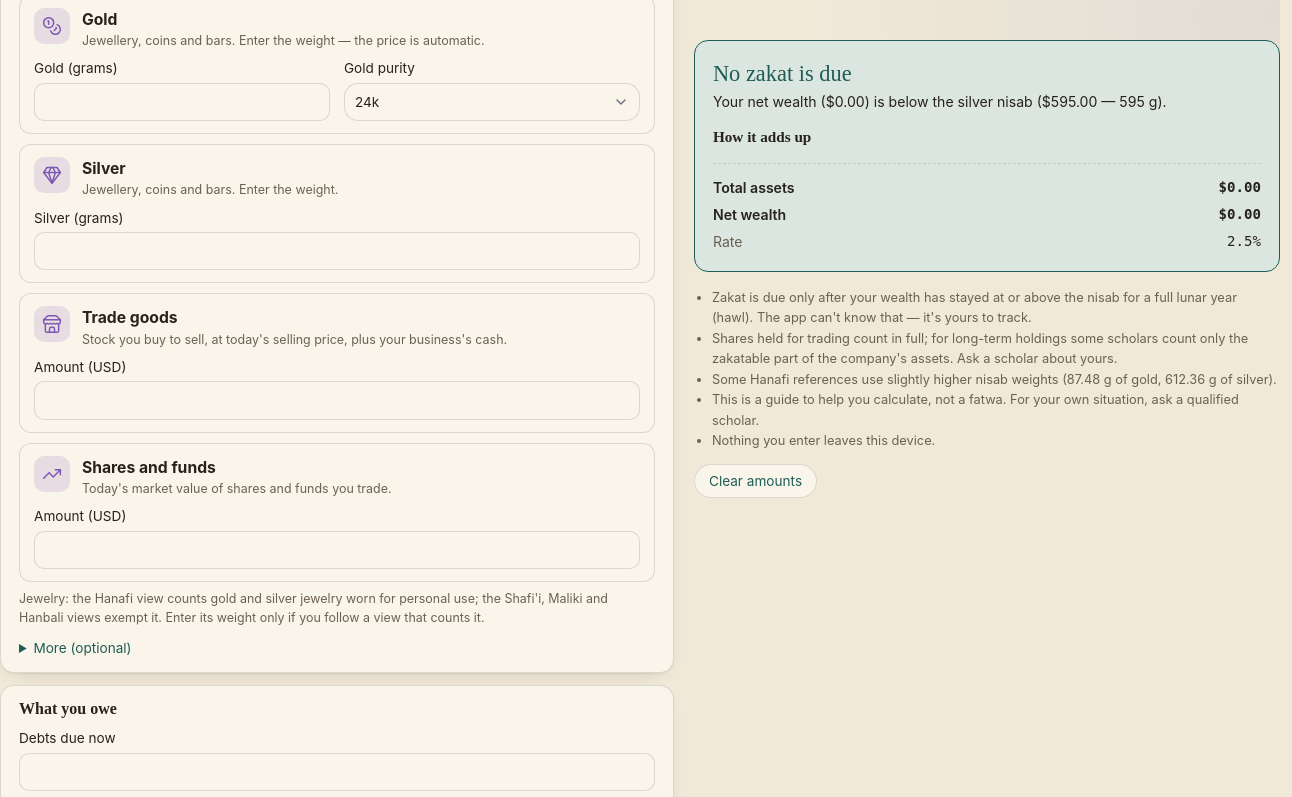
ZakatCalculator — the five kinds of wealth › counts trade goods and shares
(page scrolled)
Type "3000" into the field labelled "Amount (USD)" below "Trade goods" at (337, 401), box [34,381,640,420]
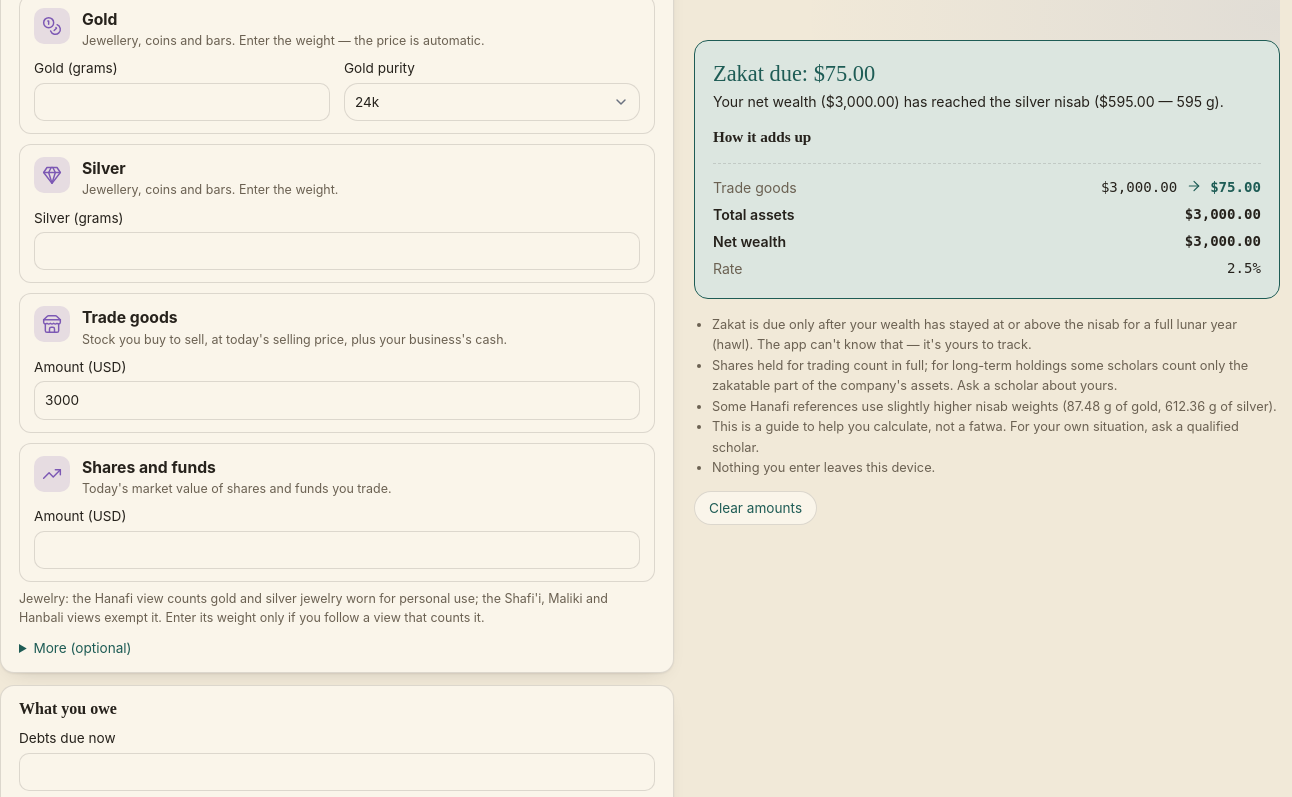
Type "7000" into the 2nd field labelled "Amount (USD)" at (337, 550), box [34,531,640,569]
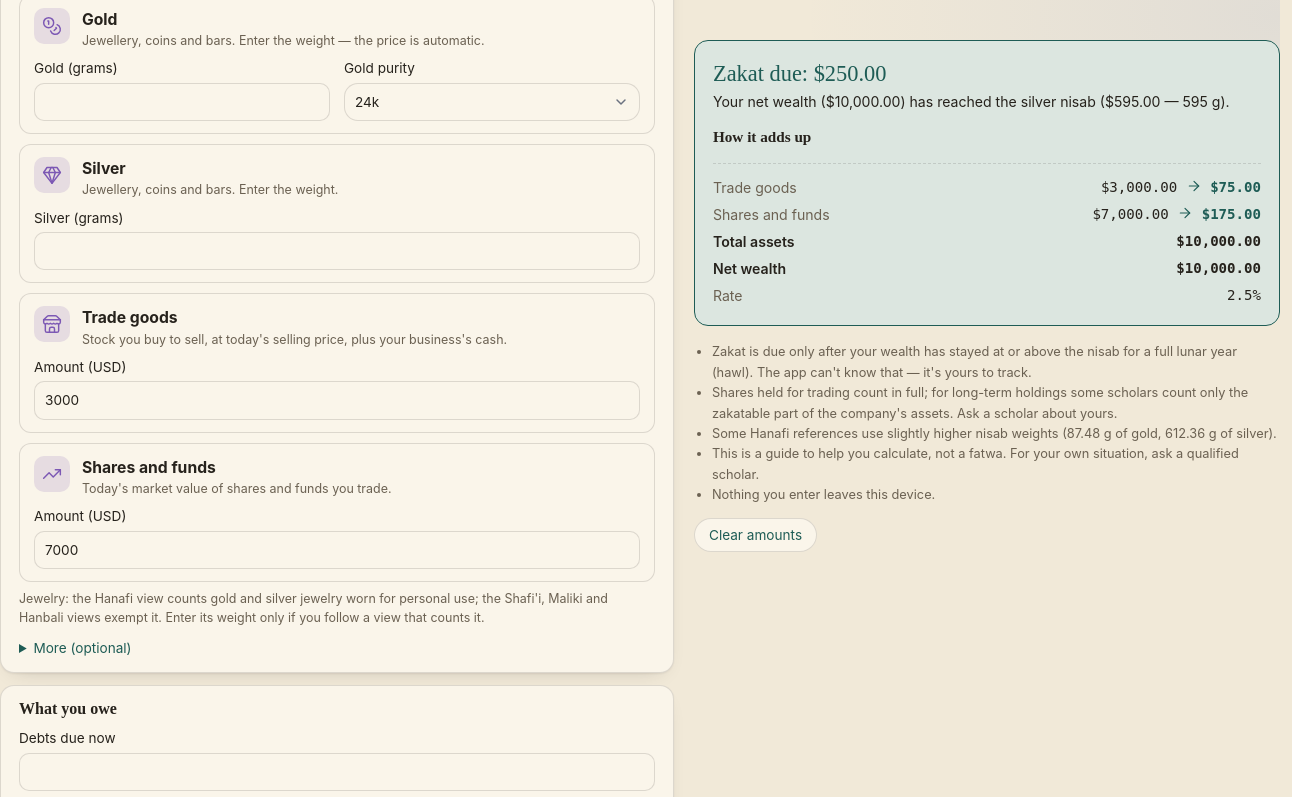
expect the element with class "zakat-result" shows "Zakat due: $250.00": met, box [713,61,886,86]
